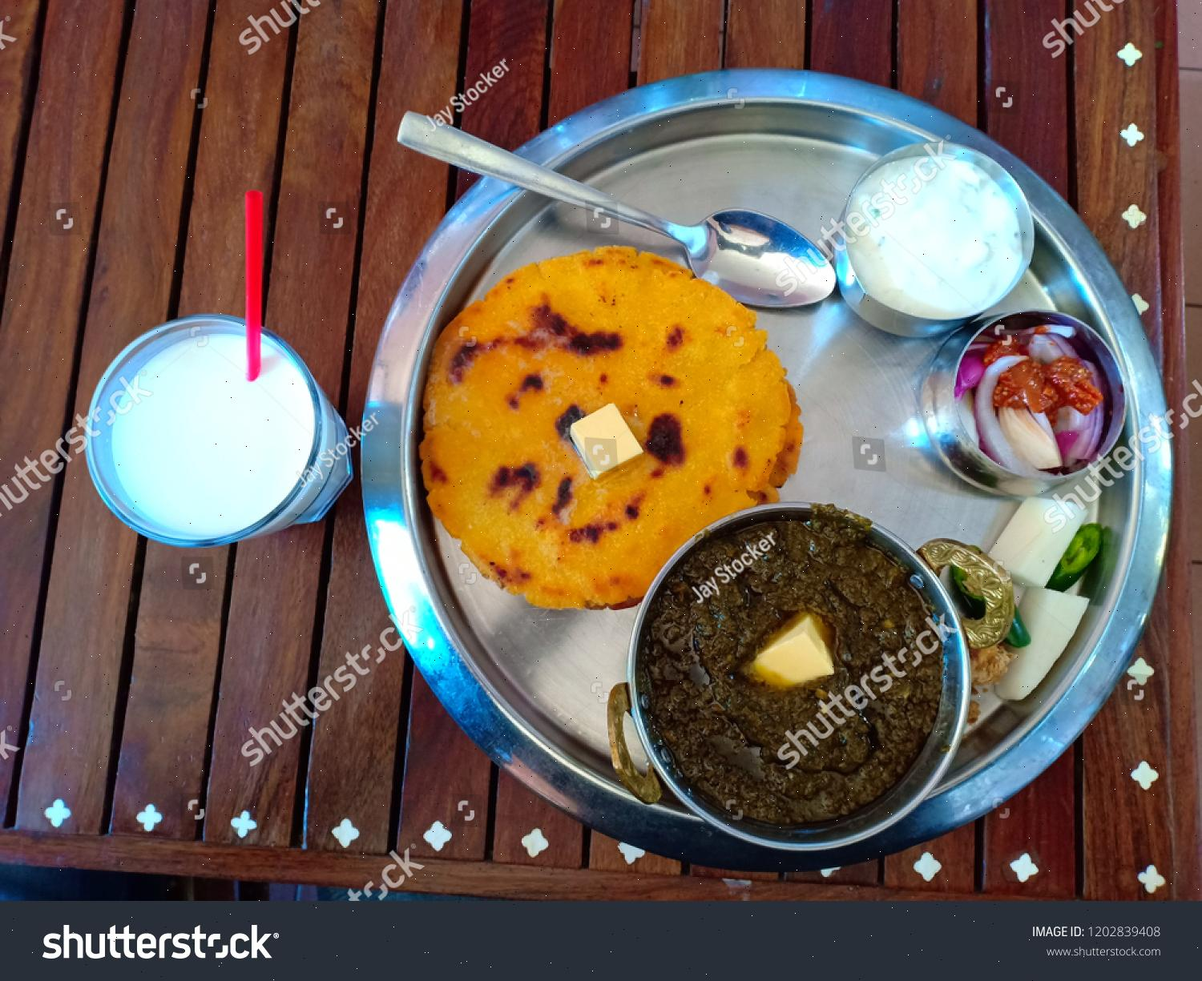saag: (639, 509, 957, 843)
